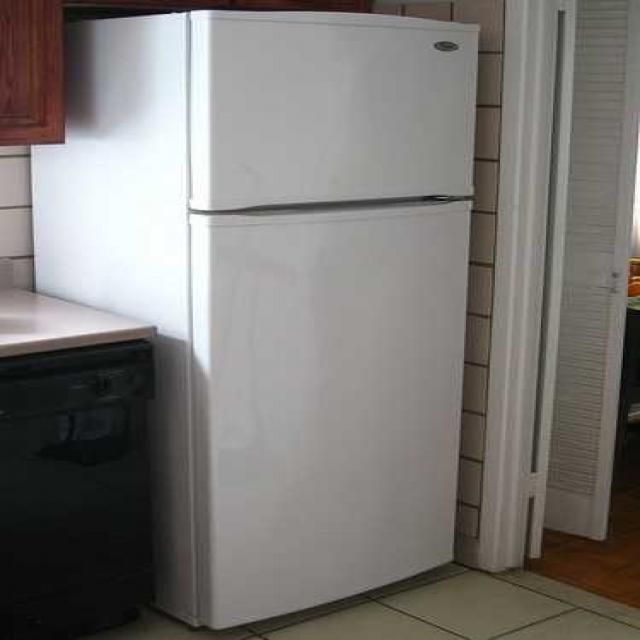refrigerator: (182, 7, 483, 633)
